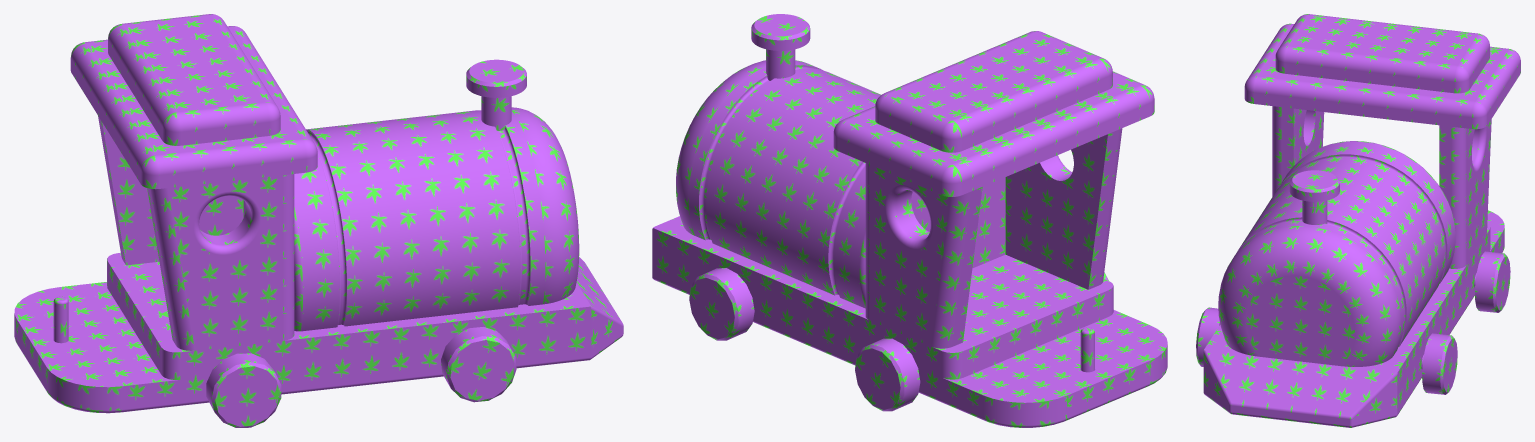
Rendered from train_front.gltf.
3 views of the same model, side by side, from view 1: azimuth 30°, elevation 25°; view 2: azimuth 150°, elevation 25°; view 3: azimuth 270°, elevation 25° (orthographic). The views are drawn at different scales.
Parts seen in each view (by area): view 1: front; view 2: front; view 3: front.
Part boxes in pixels (x1,y1,x2,y2): front: (14, 14, 623, 427); front: (652, 14, 1167, 427); front: (1196, 14, 1520, 427).
Size of the model in its own units: 20.05 by 11.05 by 12.93.
1 material, 1 textured.
